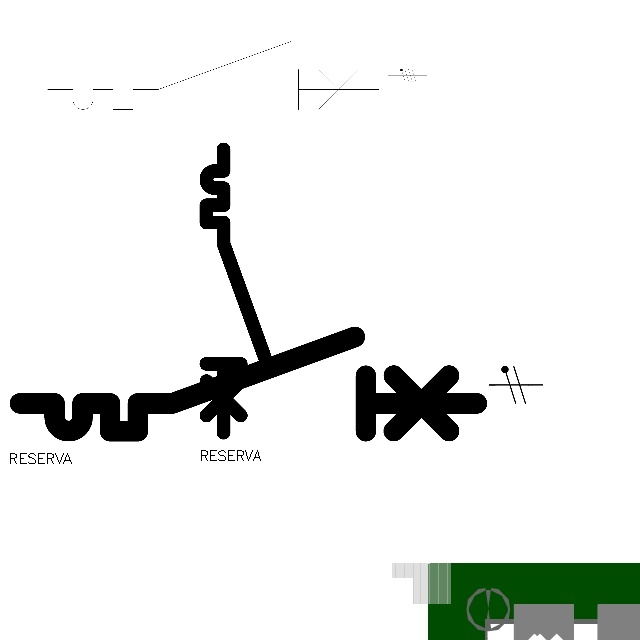interruptor_termomagnetico: (8, 325, 489, 443), (39, 33, 388, 118), (199, 142, 272, 440)
